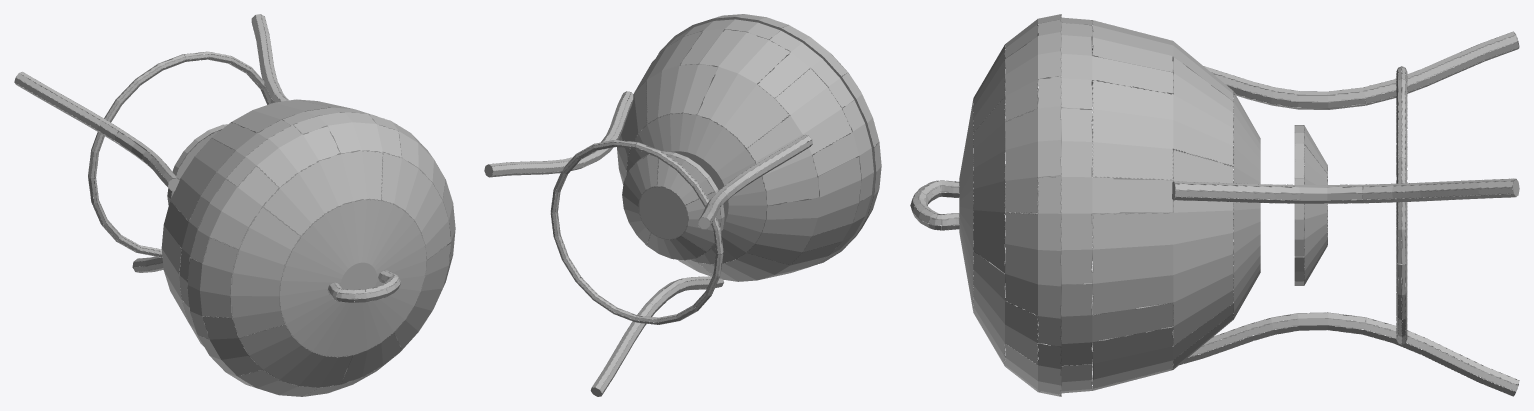
File: pz_barbecue_charcoal.obj
3 renders of one model, left to right at view 1: azimuth 30°, elevation 25°; view 2: azimuth 150°, elevation 25°; view 3: azimuth 270°, elevation 25°, orthographic. The views are drawn at different scales.
Visible parts, largest first — view 1: pz_barbecue_charcoal_|_red_domed_kettle_lid, pz_barbecue_charcoal_|_rounded_black_fire_bowl, pz_barbecue_charcoal_|_EDITABLE_lower_round_leg_brace, pz_barbecue_charcoal_|_splayed_tubular_leg.001, pz_barbecue_charcoal_|_splayed_tubular_leg, pz_barbecue_charcoal_|_EDITABLE_bowed_kettle_handle, pz_barbecue_charcoal_|_ash_catcher, pz_barbecue_charcoal_|_splayed_tubular_leg.002; view 2: pz_barbecue_charcoal_|_rounded_black_fire_bowl, pz_barbecue_charcoal_|_ash_catcher, pz_barbecue_charcoal_|_EDITABLE_lower_round_leg_brace, pz_barbecue_charcoal_|_red_domed_kettle_lid, pz_barbecue_charcoal_|_splayed_tubular_leg.002, pz_barbecue_charcoal_|_splayed_tubular_leg, pz_barbecue_charcoal_|_splayed_tubular_leg.001; view 3: pz_barbecue_charcoal_|_rounded_black_fire_bowl, pz_barbecue_charcoal_|_red_domed_kettle_lid, pz_barbecue_charcoal_|_splayed_tubular_leg, pz_barbecue_charcoal_|_splayed_tubular_leg.002, pz_barbecue_charcoal_|_splayed_tubular_leg.001, pz_barbecue_charcoal_|_ash_catcher, pz_barbecue_charcoal_|_EDITABLE_lower_round_leg_brace, pz_barbecue_charcoal_|_EDITABLE_bowed_kettle_handle.
Boxes of the visible parts, x1=… form: pz_barbecue_charcoal_|_red_domed_kettle_lid: x1=187, y1=112, x2=455, y2=396; pz_barbecue_charcoal_|_rounded_black_fire_bowl: x1=161, y1=99, x2=446, y2=388; pz_barbecue_charcoal_|_EDITABLE_lower_round_leg_brace: x1=88, y1=51, x2=271, y2=257; pz_barbecue_charcoal_|_splayed_tubular_leg.001: x1=14, y1=72, x2=179, y2=191; pz_barbecue_charcoal_|_splayed_tubular_leg: x1=251, y1=14, x2=288, y2=103; pz_barbecue_charcoal_|_EDITABLE_bowed_kettle_handle: x1=327, y1=270, x2=400, y2=302; pz_barbecue_charcoal_|_ash_catcher: x1=167, y1=124, x2=227, y2=205; pz_barbecue_charcoal_|_splayed_tubular_leg.002: x1=132, y1=256, x2=163, y2=272; pz_barbecue_charcoal_|_rounded_black_fire_bowl: x1=617, y1=19, x2=873, y2=281; pz_barbecue_charcoal_|_ash_catcher: x1=622, y1=151, x2=724, y2=260; pz_barbecue_charcoal_|_EDITABLE_lower_round_leg_brace: x1=550, y1=140, x2=723, y2=324; pz_barbecue_charcoal_|_red_domed_kettle_lid: x1=645, y1=14, x2=881, y2=265; pz_barbecue_charcoal_|_splayed_tubular_leg.002: x1=590, y1=276, x2=723, y2=396; pz_barbecue_charcoal_|_splayed_tubular_leg: x1=484, y1=91, x2=633, y2=177; pz_barbecue_charcoal_|_splayed_tubular_leg.001: x1=698, y1=134, x2=812, y2=229; pz_barbecue_charcoal_|_rounded_black_fire_bowl: x1=1059, y1=17, x2=1260, y2=393; pz_barbecue_charcoal_|_red_domed_kettle_lid: x1=959, y1=14, x2=1061, y2=396; pz_barbecue_charcoal_|_splayed_tubular_leg: x1=1172, y1=178, x2=1519, y2=203; pz_barbecue_charcoal_|_splayed_tubular_leg.002: x1=1179, y1=312, x2=1519, y2=396; pz_barbecue_charcoal_|_splayed_tubular_leg.001: x1=1173, y1=31, x2=1519, y2=109; pz_barbecue_charcoal_|_ash_catcher: x1=1294, y1=125, x2=1327, y2=285; pz_barbecue_charcoal_|_EDITABLE_lower_round_leg_brace: x1=1396, y1=66, x2=1407, y2=344; pz_barbecue_charcoal_|_EDITABLE_bowed_kettle_handle: x1=910, y1=180, x2=959, y2=230.
Bounding box in the file's own units: 0.57 × 0.598 × 0.9059.
1 material, 1 textured.
